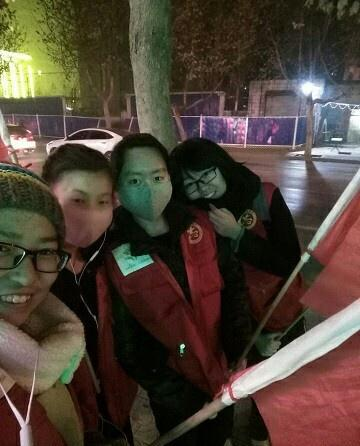NONE: (1, 220, 64, 327), (183, 165, 227, 209)
OK: (54, 185, 117, 248), (118, 164, 176, 222)
